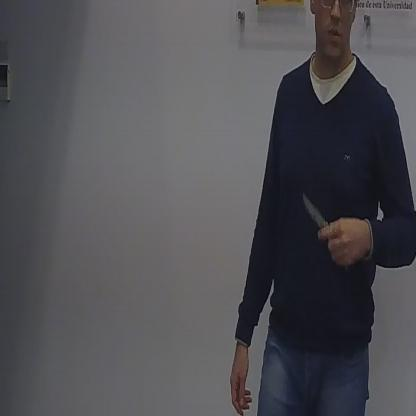knife: (298, 184, 350, 269)
